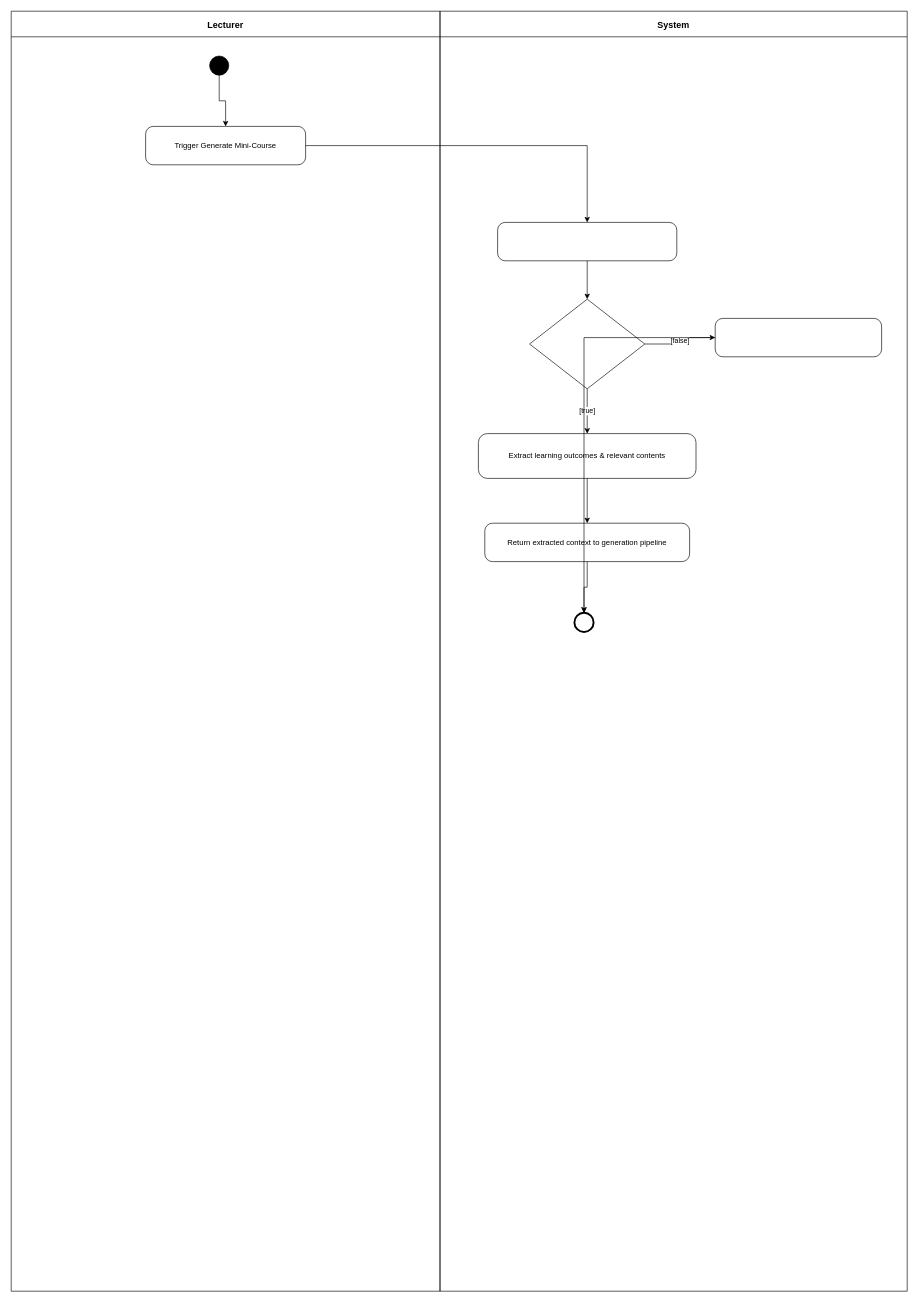
The diagram is 918 pixels wide and 1302 high, and some of its shapes have lost their labels. The shapes that lost their labels are listed below. From the top down, each one's centre as x and y in pixels, then its label:
At (x=587, y=241): "Load course materials metadata".
At (x=587, y=344): "Materials available?".
At (x=798, y=337): "Show error: materials not uploaded".
